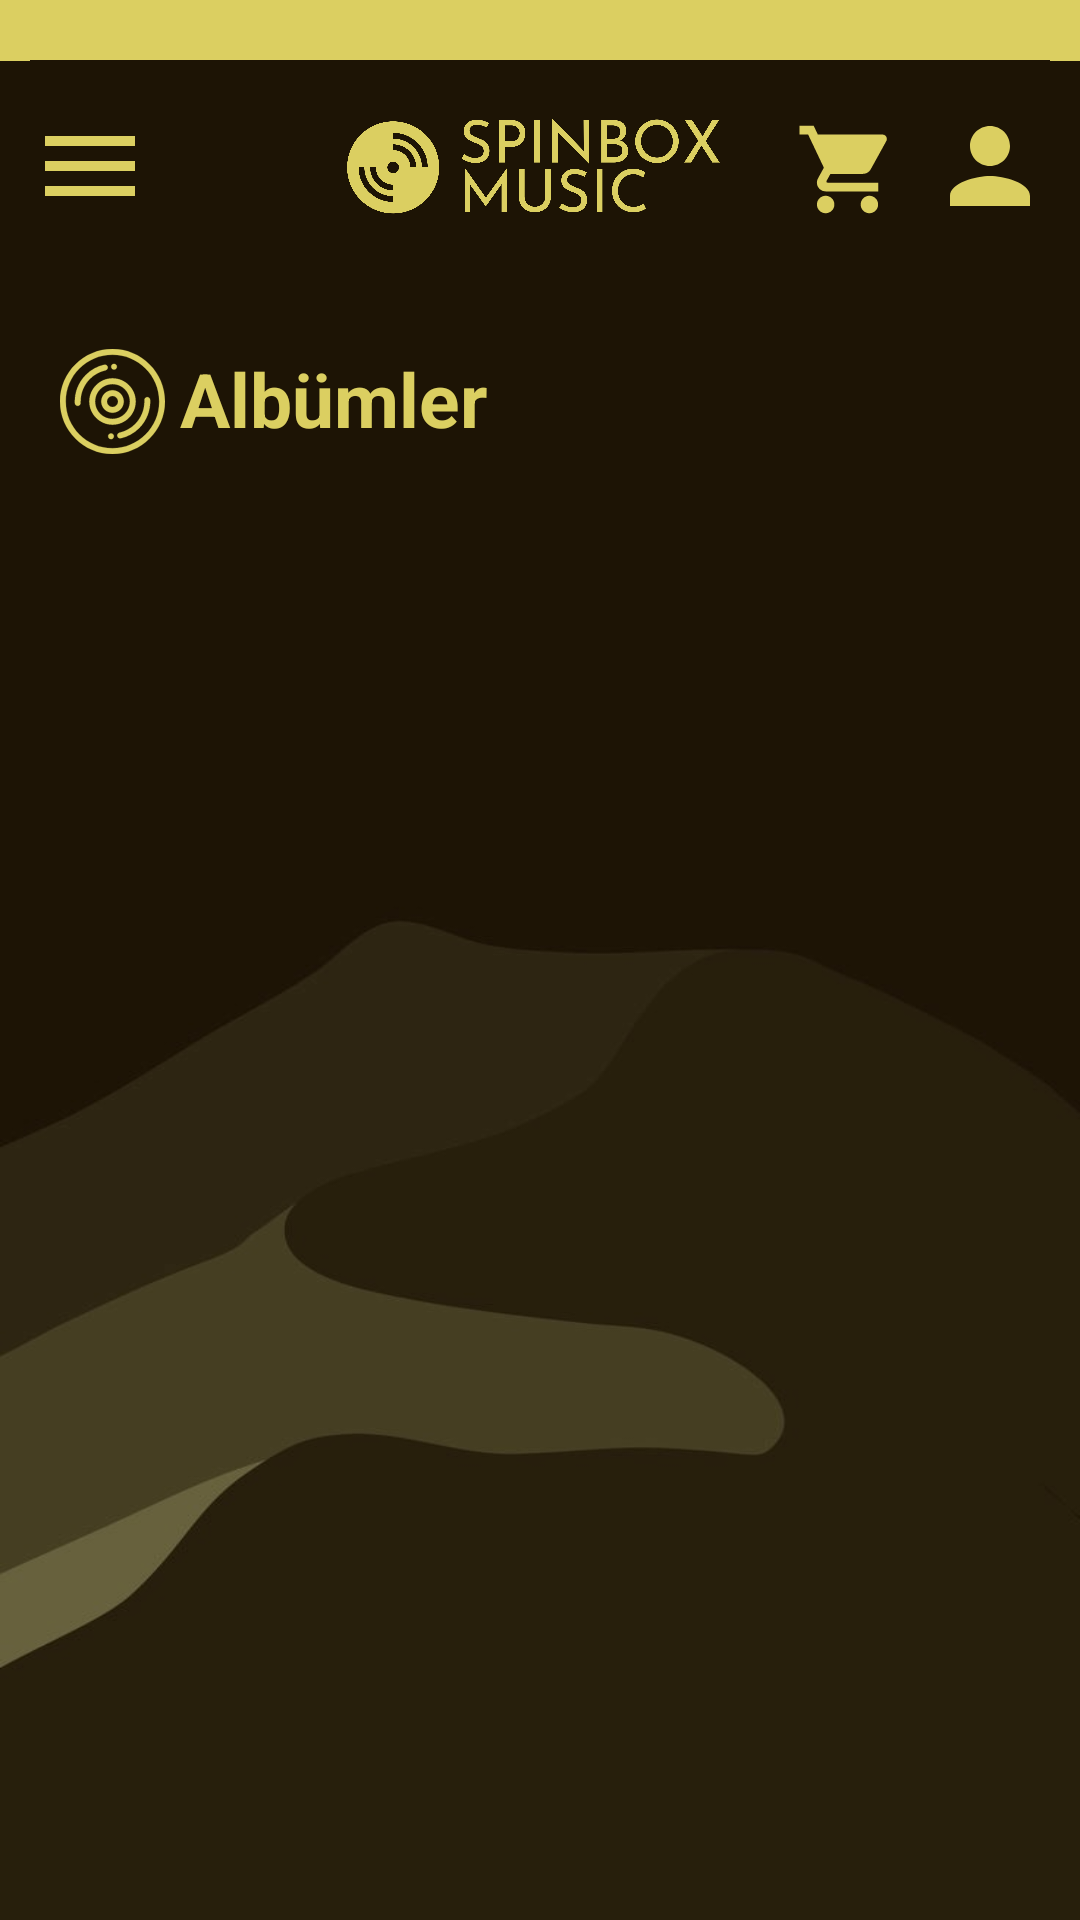

Icons on this 1080 × 1920 Android screen, each with the point to tap as [x,y]:
menu: [90,166]
person: [990,166]
shopping cart: [843,169]
